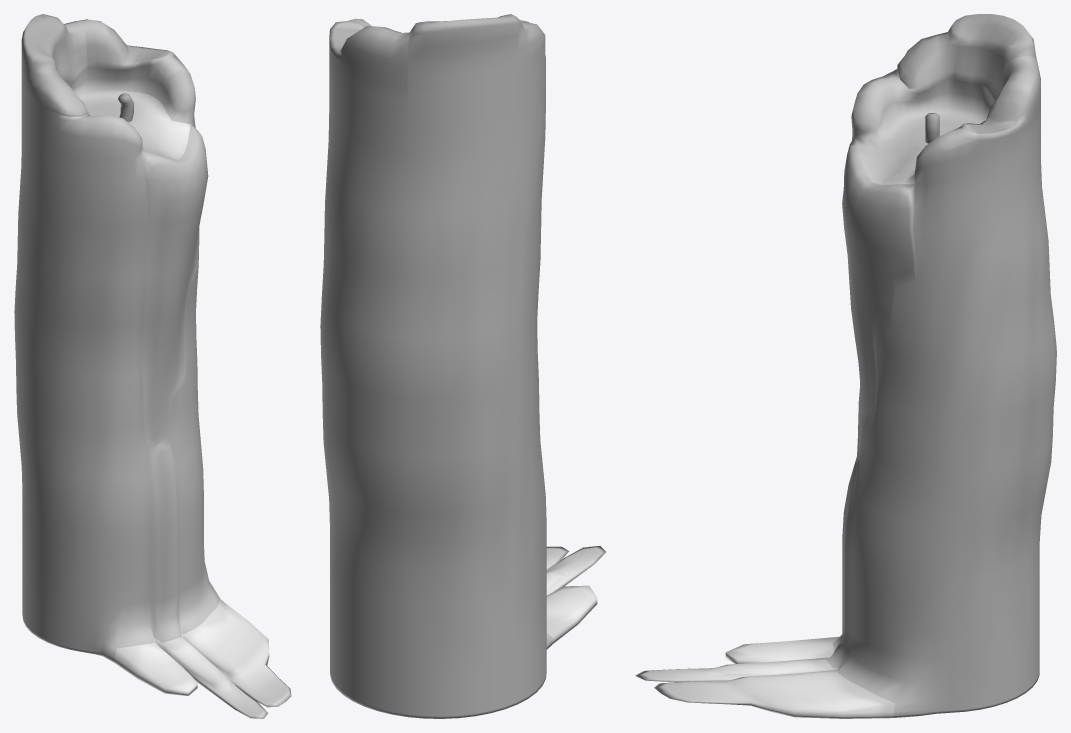
Rendered from candle.fbx.
The picture shows the model from 3 angles, left to right: view 1: azimuth 30°, elevation 25°; view 2: azimuth 150°, elevation 25°; view 3: azimuth 270°, elevation 25°; orthographic projection. The views are drawn at different scales.
Parts seen in each view (by area): view 1: pCylinder8; view 2: pCylinder8; view 3: pCylinder8.
Boxes of the visible parts, x1,y1,x2,y2 form: pCylinder8: (14,14,291,718); pCylinder8: (320,14,605,718); pCylinder8: (635,14,1056,718).
Size of the model in its own units: 2.12 by 7.02 by 4.28.
